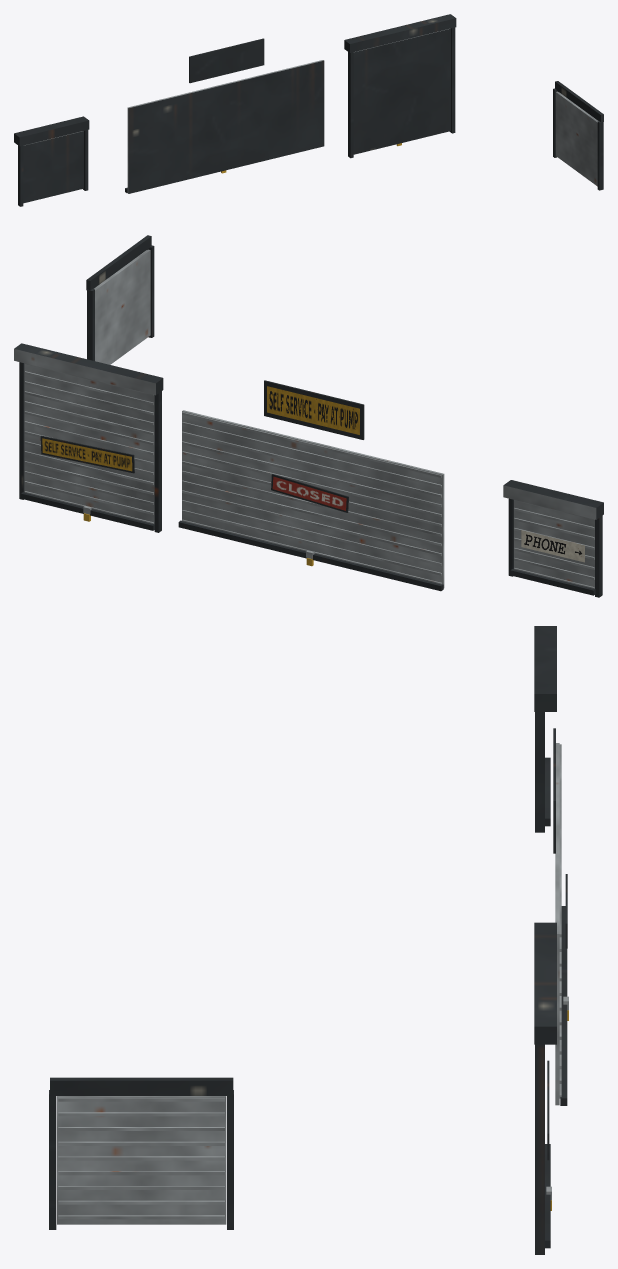
File: KioskShutters.fbx
3 views of the same model, one above another, from view 1: azimuth 30°, elevation 25°; view 2: azimuth 150°, elevation 25°; view 3: azimuth 270°, elevation 25° (orthographic). The views are drawn at different scales.
Parts seen in each view (by area): view 1: KioskShutters; view 2: KioskShutters; view 3: KioskShutters.
Part boxes in pixels (x1,y1,x2,y2): KioskShutters: (14, 14, 603, 206); KioskShutters: (14, 235, 603, 597); KioskShutters: (49, 626, 568, 1254).
Bounding box in the file's own units: 7.57 × 2.16 × 3.68.
